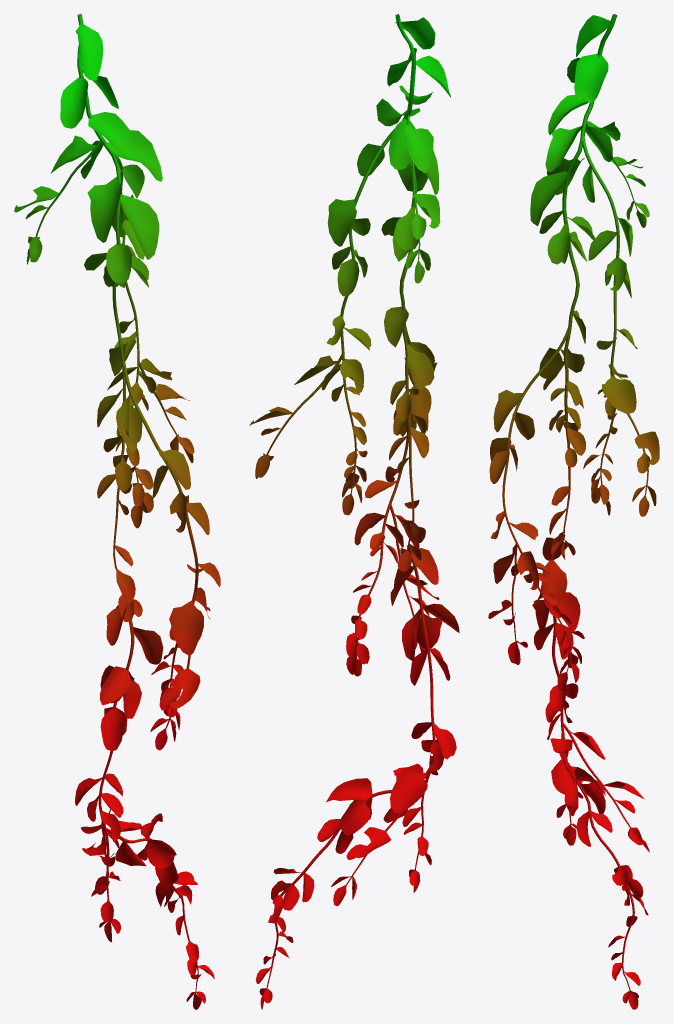
File: Var9_LOD0.fbx
3 views of the same model, side by side, from view 1: azimuth 30°, elevation 25°; view 2: azimuth 150°, elevation 25°; view 3: azimuth 270°, elevation 25° (orthographic). The views are drawn at different scales.
Visible parts, largest first — view 1: _uqah_Var9_LOD0; view 2: _uqah_Var9_LOD0; view 3: _uqah_Var9_LOD0.
Part boxes in pixels (<box>): _uqah_Var9_LOD0: <box>14,14,220,1009</box>; _uqah_Var9_LOD0: <box>249,14,459,1009</box>; _uqah_Var9_LOD0: <box>488,14,659,1009</box>.
Bounding box in the file's own units: 28.99 × 152 × 25.19.
